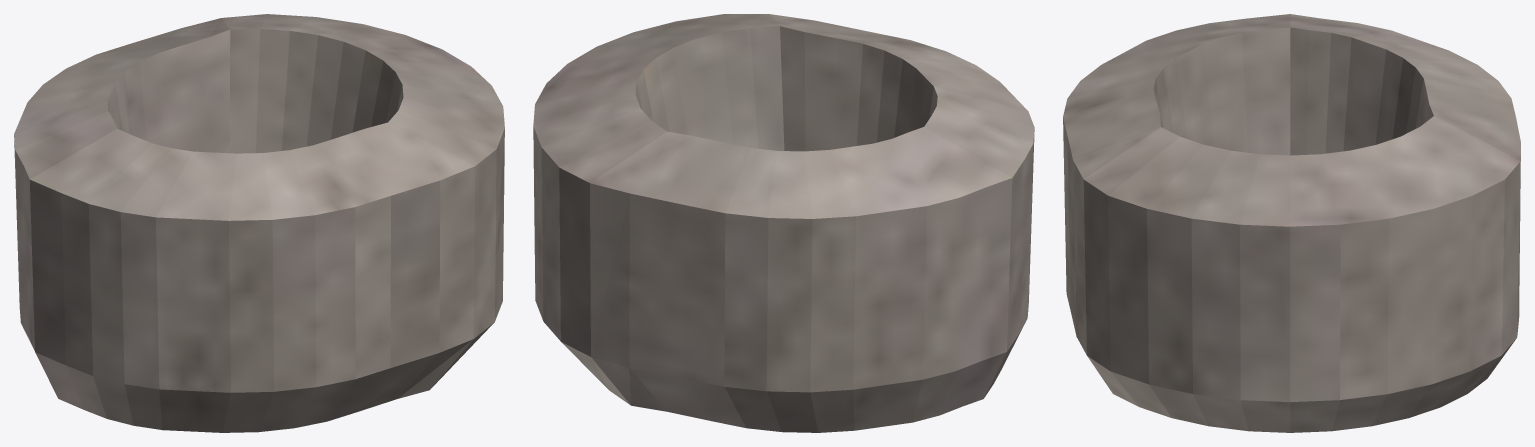
File: FACE SCARF.fbx
3 views of the same model, side by side, from view 1: azimuth 30°, elevation 25°; view 2: azimuth 150°, elevation 25°; view 3: azimuth 270°, elevation 25° (orthographic).
Parts seen in each view (by area): view 1: FACE_SCARF; view 2: FACE_SCARF; view 3: FACE_SCARF.
Boxes of the visible parts, x1=… form: FACE_SCARF: x1=14, y1=14, x2=504, y2=432; FACE_SCARF: x1=533, y1=14, x2=1034, y2=432; FACE_SCARF: x1=1063, y1=14, x2=1520, y2=432.
Size of the model in its own units: 30.93 by 20.01 by 27.44.
